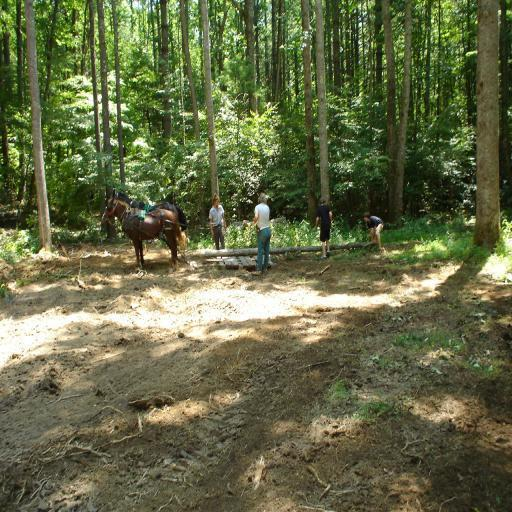horse: (100, 188, 188, 274), (110, 189, 190, 265)
